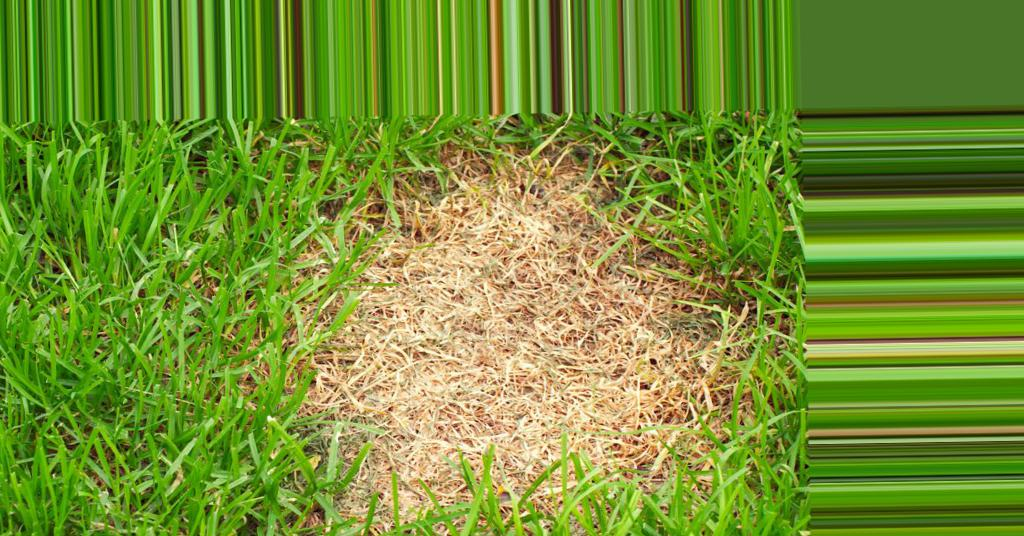patch: (420, 238, 563, 425), (573, 292, 674, 440), (390, 438, 499, 476), (478, 185, 560, 231)
